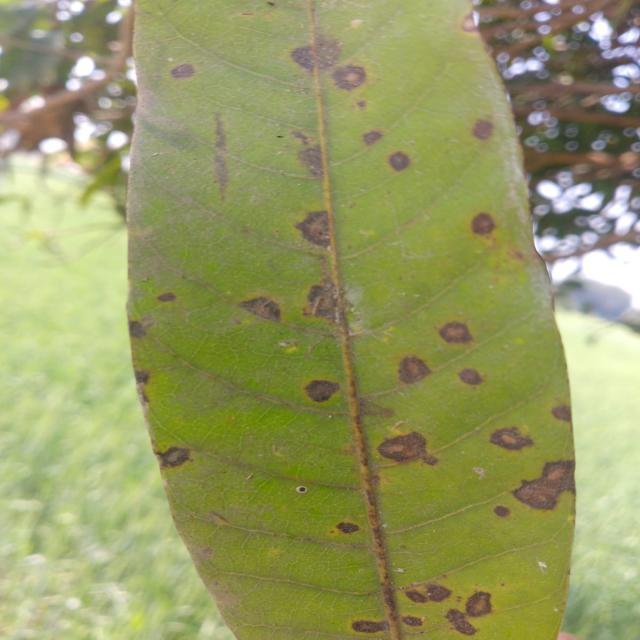Anthracnose: (510, 450, 589, 523), (289, 33, 347, 80), (376, 429, 430, 468), (489, 420, 537, 457), (293, 207, 336, 248), (391, 350, 432, 391), (238, 290, 286, 324), (294, 211, 332, 251), (306, 280, 337, 322), (331, 61, 369, 94), (214, 114, 228, 200), (443, 606, 478, 640), (156, 442, 193, 472), (303, 377, 341, 406), (298, 145, 324, 181), (359, 399, 396, 419), (386, 147, 413, 174), (439, 322, 473, 343), (403, 584, 430, 608), (471, 117, 496, 142), (466, 592, 491, 617), (289, 125, 315, 149), (360, 125, 385, 148), (135, 371, 150, 408), (472, 213, 495, 235), (425, 584, 451, 603), (457, 367, 484, 385), (352, 620, 388, 633), (205, 510, 231, 528), (400, 613, 424, 629), (460, 13, 478, 33), (171, 64, 195, 79), (335, 521, 359, 535), (129, 321, 146, 339), (552, 406, 571, 422), (135, 371, 150, 385), (423, 455, 439, 467), (157, 292, 176, 302), (200, 547, 214, 560), (494, 506, 510, 517), (357, 100, 366, 110), (296, 486, 307, 493)
